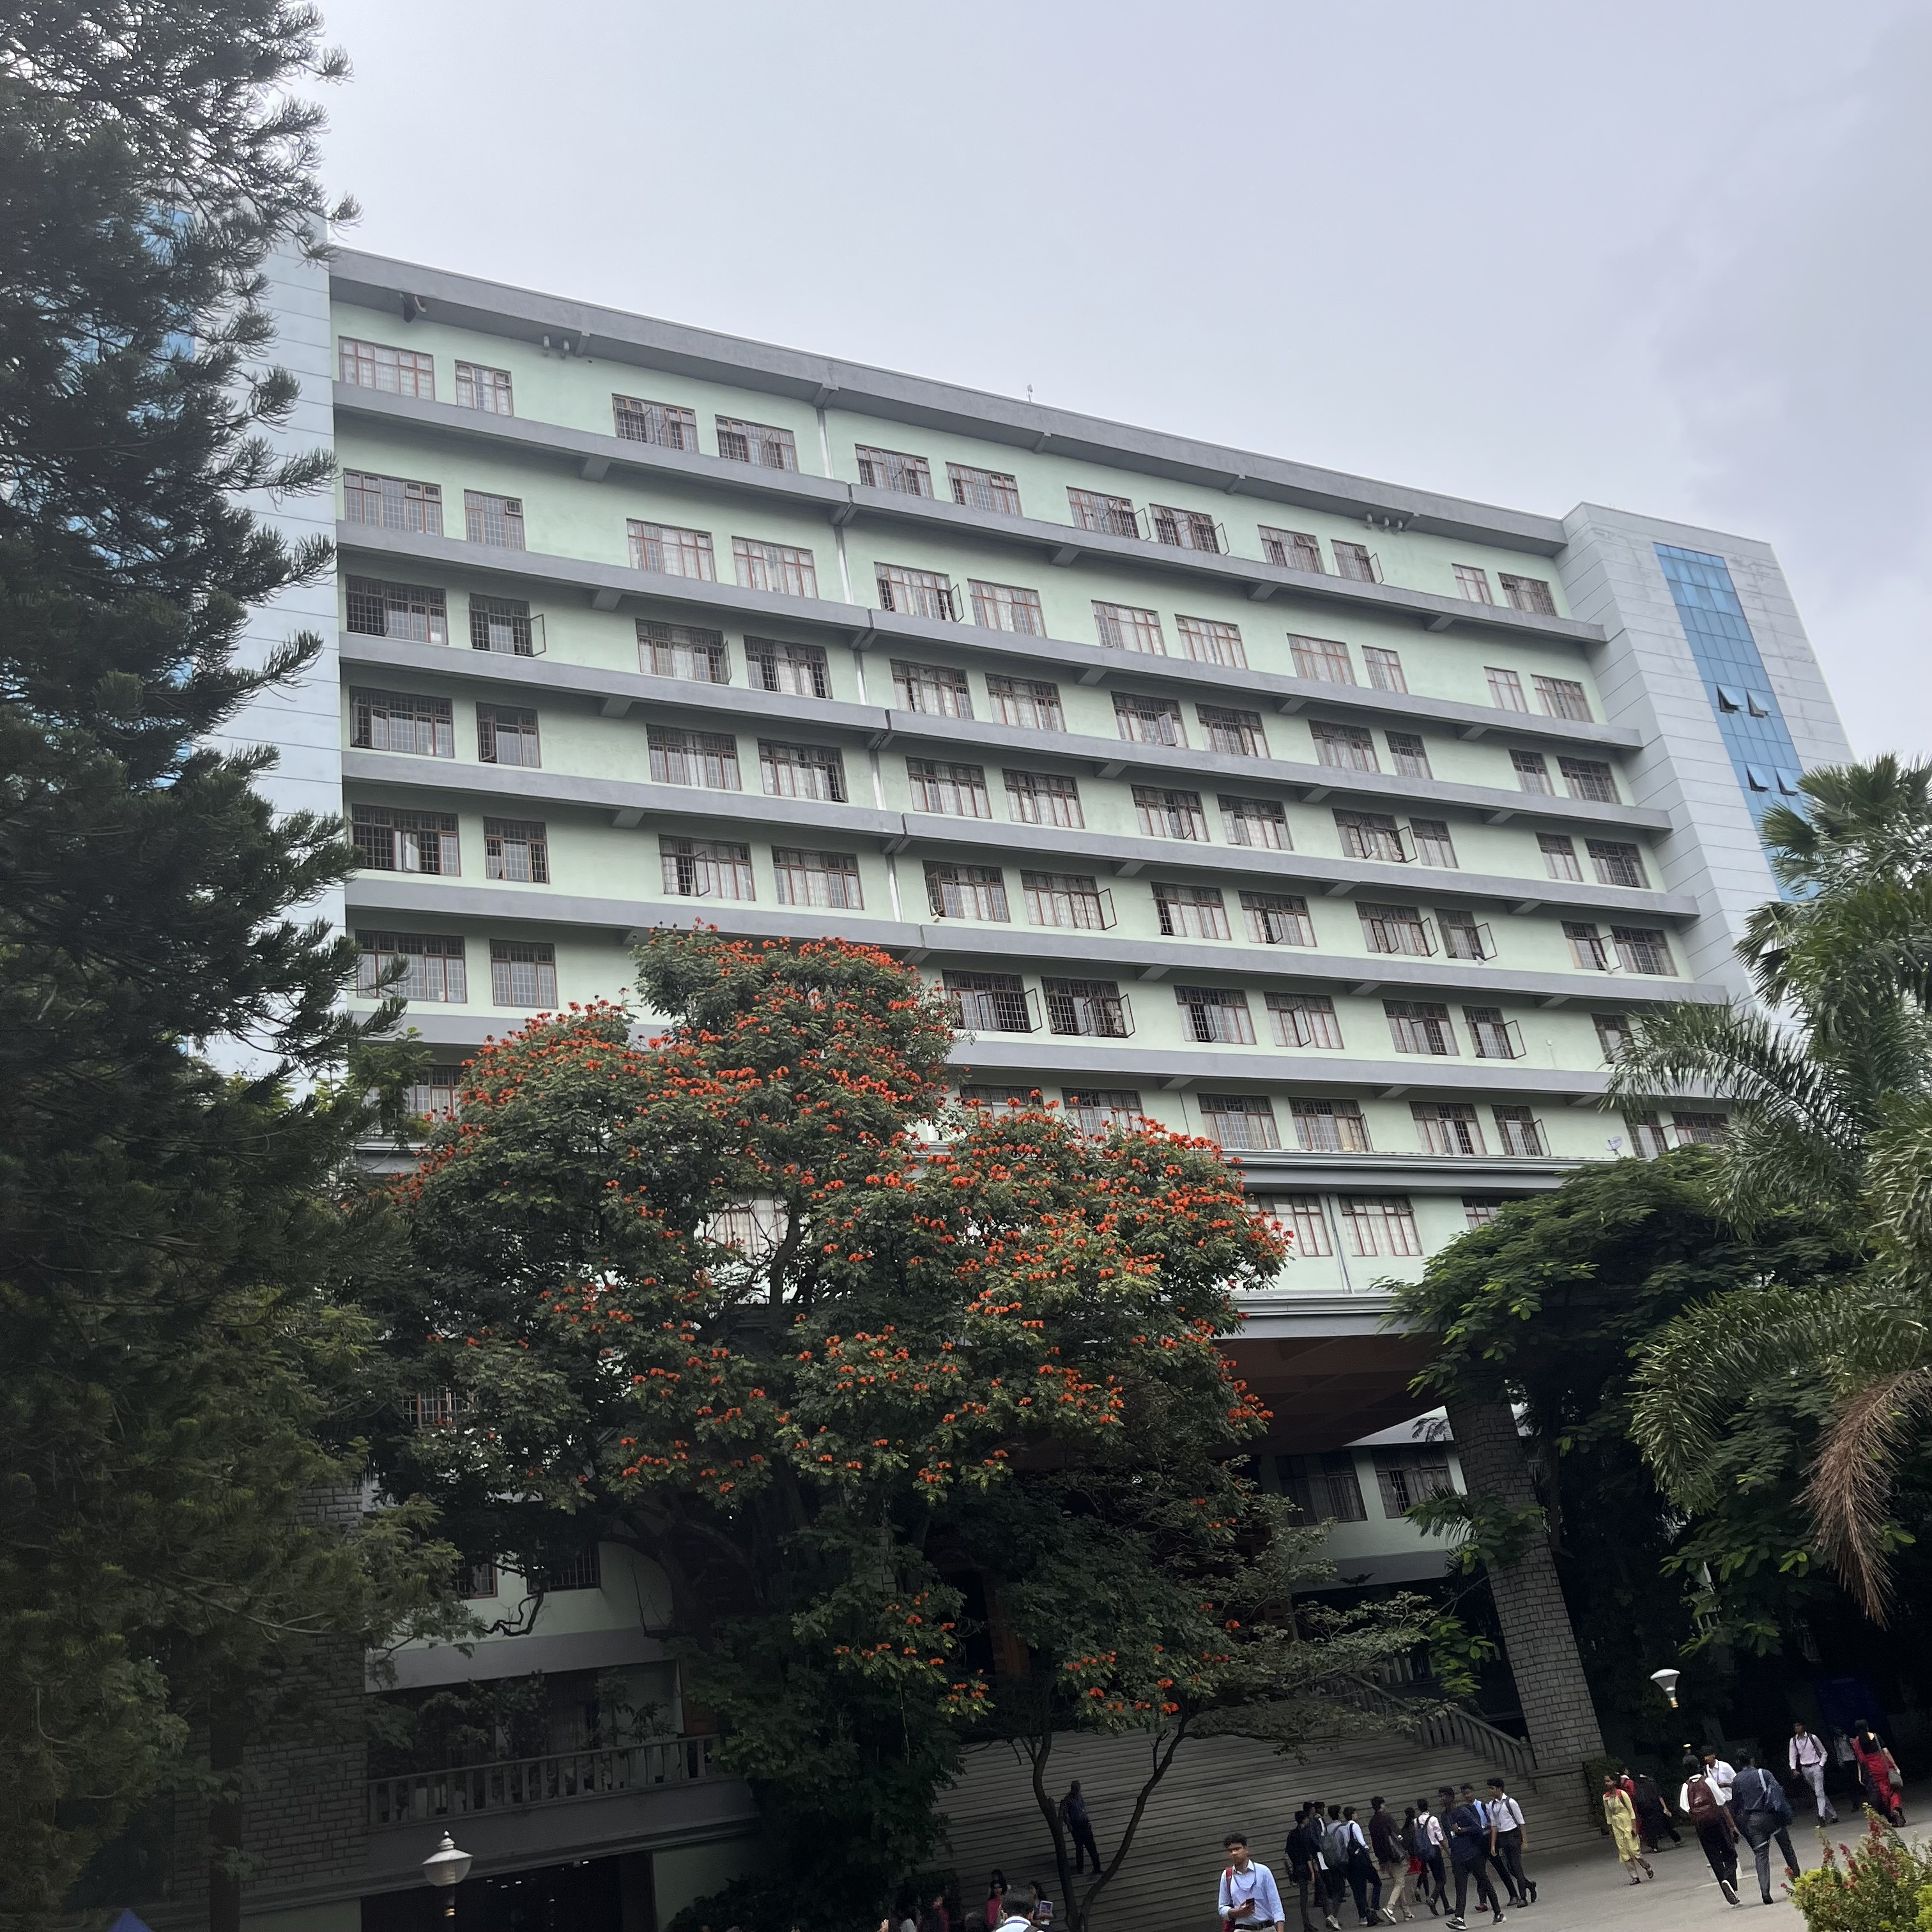Central Block: (234, 170, 1932, 1396)
